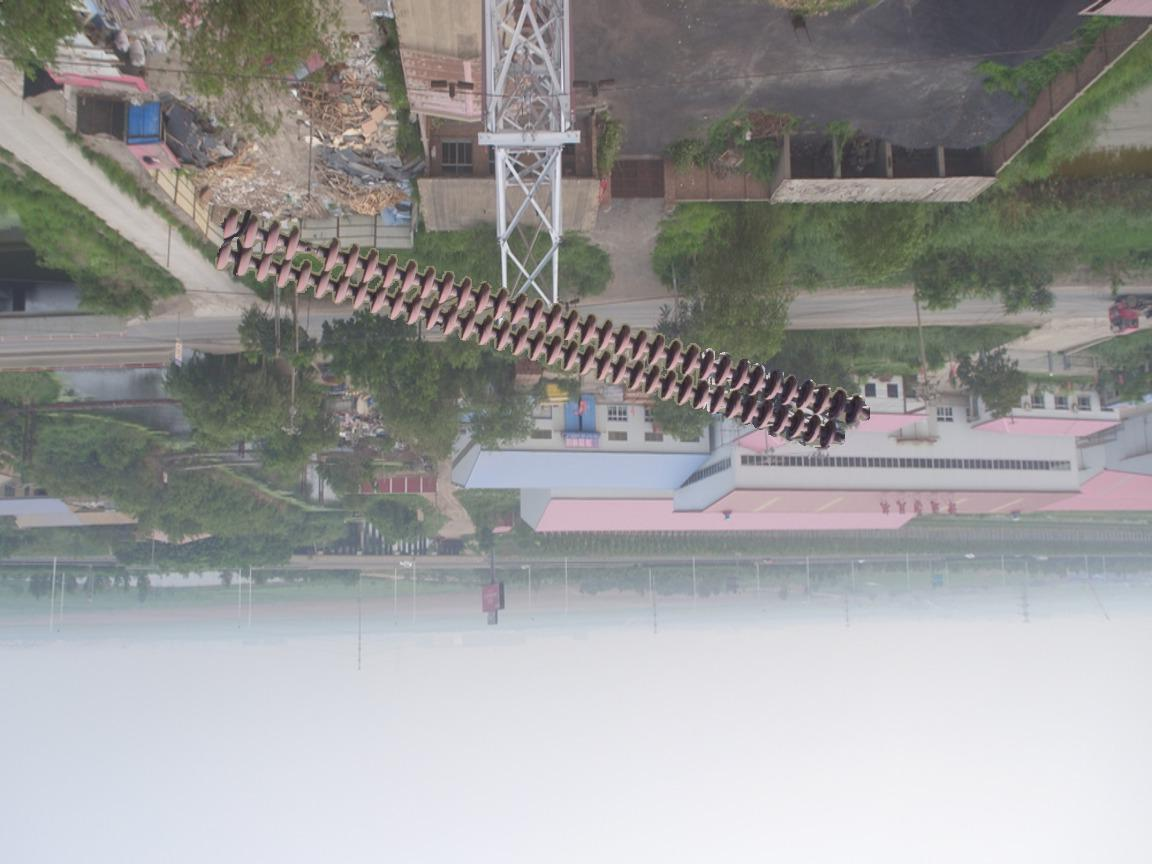insulator: (209, 205, 873, 455)
insulator_stringdrop: (280, 225, 344, 274)
